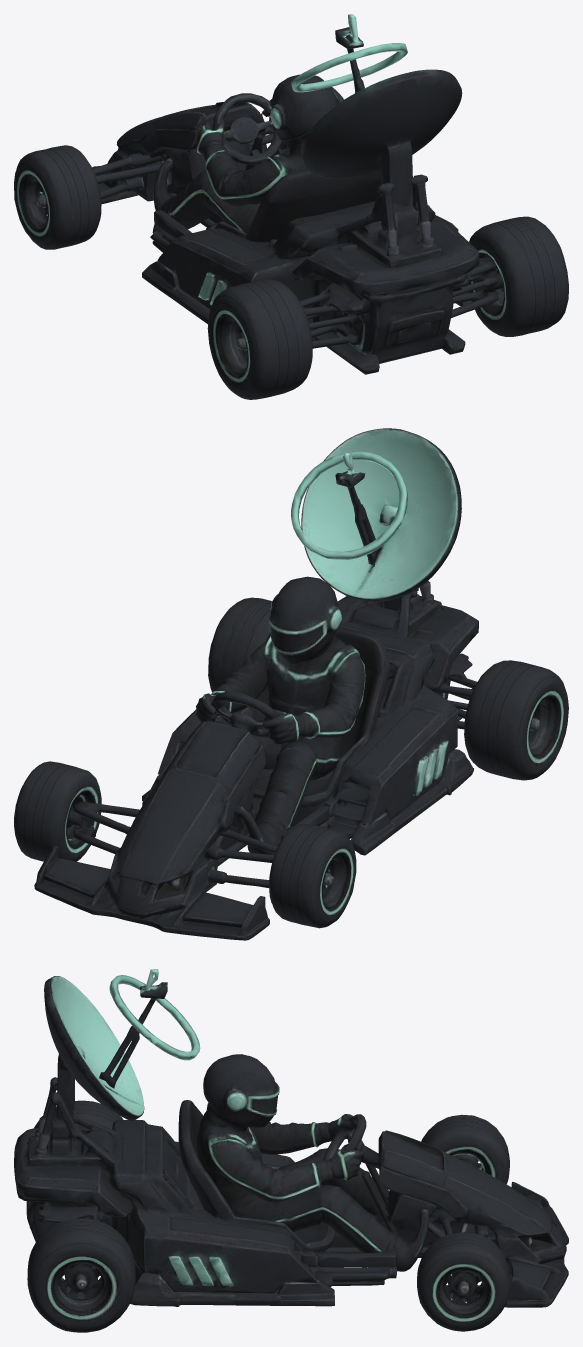
File: aether-dark.glb
3 views of the same model, one above another, from view 1: azimuth 30°, elevation 25°; view 2: azimuth 150°, elevation 25°; view 3: azimuth 270°, elevation 25° (orthographic). The views are drawn at different scales.
Visible parts, largest first — view 1: chassis, wheel-rl, wheel-rr, wheel-fl; view 2: chassis, wheel-rl, wheel-fl, wheel-fr, wheel-rr; view 3: chassis, wheel-rr, wheel-fr, wheel-fl, wheel-rl.
Boxes of the visible parts, bbox=[...] form: chassis: bbox=[92, 14, 496, 374]; wheel-rl: bbox=[207, 279, 312, 399]; wheel-rr: bbox=[468, 216, 568, 336]; wheel-fl: bbox=[14, 145, 101, 249]; chassis: bbox=[34, 428, 478, 940]; wheel-rl: bbox=[464, 660, 568, 780]; wheel-fl: bbox=[269, 823, 356, 928]; wheel-fr: bbox=[14, 761, 101, 861]; wheel-rr: bbox=[208, 597, 271, 691]; chassis: bbox=[14, 969, 568, 1307]; wheel-rr: bbox=[27, 1218, 135, 1332]; wheel-fr: bbox=[417, 1232, 509, 1331]; wheel-fl: bbox=[421, 1114, 509, 1184]; wheel-rl: bbox=[34, 1100, 123, 1128].
Size of the model in its own units: 2.77 by 2.66 by 4.5.
1 material, 1 textured.
